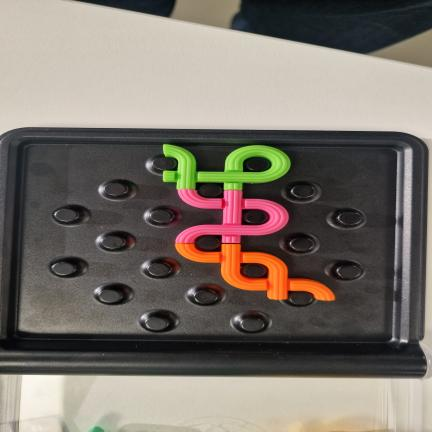G_Pink: (176, 190, 288, 243)
I_Orange: (176, 243, 335, 300)
K_YellowGreen: (163, 145, 290, 190)
board: (0, 128, 428, 378)
hinge: (2, 340, 430, 378)
pin: (195, 235, 221, 251), (290, 184, 316, 199), (336, 211, 362, 226), (245, 157, 270, 172), (198, 183, 223, 198), (54, 208, 79, 223), (289, 237, 314, 252), (193, 290, 218, 305), (144, 316, 169, 331), (240, 317, 265, 332), (241, 264, 267, 278), (104, 182, 128, 197), (288, 291, 312, 306), (149, 209, 174, 223), (243, 210, 268, 224), (51, 262, 76, 276), (336, 265, 361, 279), (98, 289, 123, 303), (152, 157, 176, 171), (101, 236, 125, 250), (147, 263, 171, 277)
